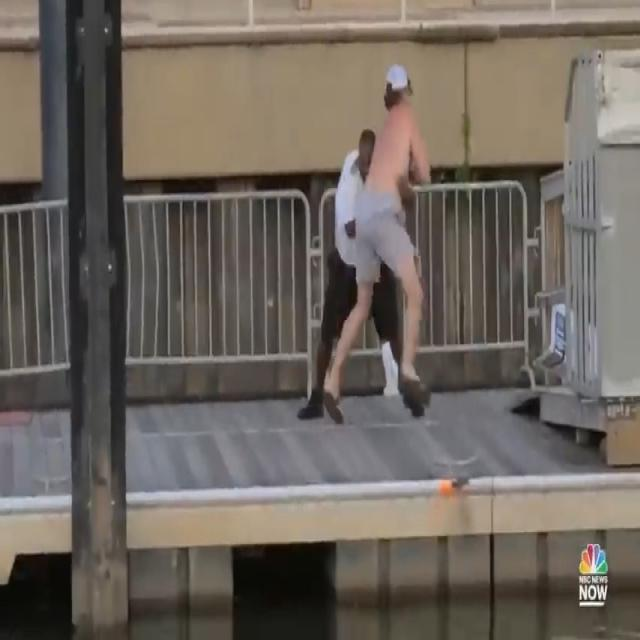fight: (295, 58, 434, 425)
